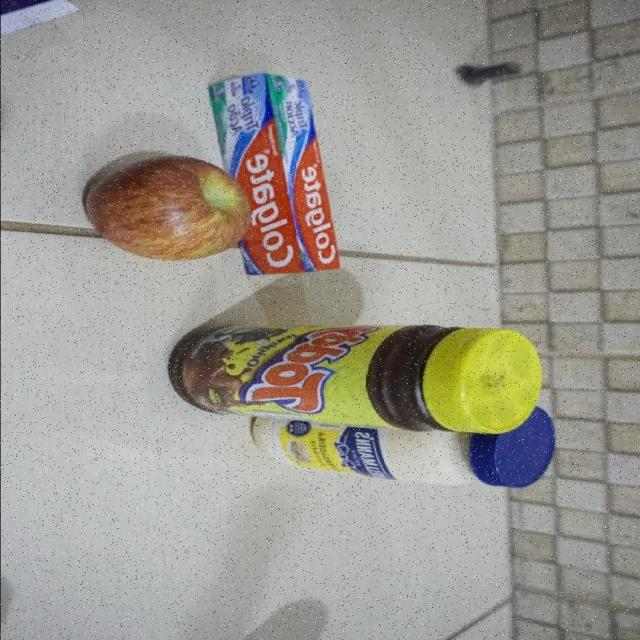Apple: (82, 154, 252, 262)
ChocolatePowder: (162, 318, 545, 436)
Mayonnaise: (247, 409, 557, 489)
Popcorn: (0, 0, 88, 61)
Toothpaste: (204, 72, 343, 276)
